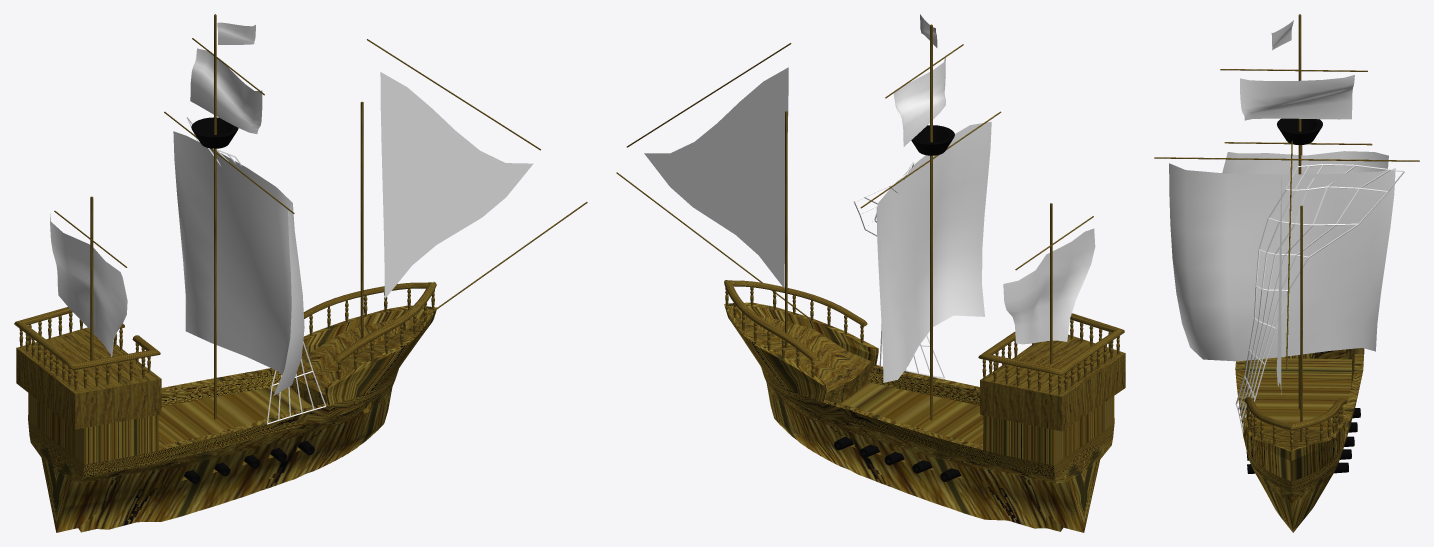
The model's file is bbbbb.FBX.
3 views of the same model, side by side, from view 1: azimuth 30°, elevation 25°; view 2: azimuth 150°, elevation 25°; view 3: azimuth 270°, elevation 25° (orthographic). The views are drawn at different scales.
Parts seen in each view (by area): view 1: ship, sail04, sail02, sail00, sail06, basket, ropes, sail007; view 2: ship, sail04, sail02, sail00, sail06, basket, ropes; view 3: sail04, ship, sail06, ropes, sail00, basket, sail02, sail007.
Boxes of the visible parts, x1,y1,x2,y2 form: ship: [14, 14, 587, 532]; sail04: [173, 131, 304, 395]; sail02: [380, 72, 533, 298]; sail00: [50, 213, 127, 356]; sail06: [190, 48, 262, 133]; basket: [191, 117, 238, 148]; ropes: [186, 117, 325, 424]; sail007: [217, 22, 255, 44]; ship: [616, 24, 1125, 532]; sail04: [876, 121, 991, 382]; sail02: [644, 67, 788, 288]; sail00: [1003, 228, 1095, 344]; sail06: [894, 55, 945, 146]; basket: [911, 125, 954, 155]; ropes: [854, 162, 944, 378]; sail04: [1169, 163, 1395, 361]; ship: [1154, 14, 1419, 532]; sail06: [1240, 75, 1354, 120]; ropes: [1235, 164, 1404, 433]; sail00: [1222, 151, 1388, 174]; basket: [1277, 118, 1322, 145]; sail02: [1276, 178, 1281, 394]; sail007: [1271, 20, 1293, 50].
Bounding box in the file's own units: 1870 × 1707 × 852.
